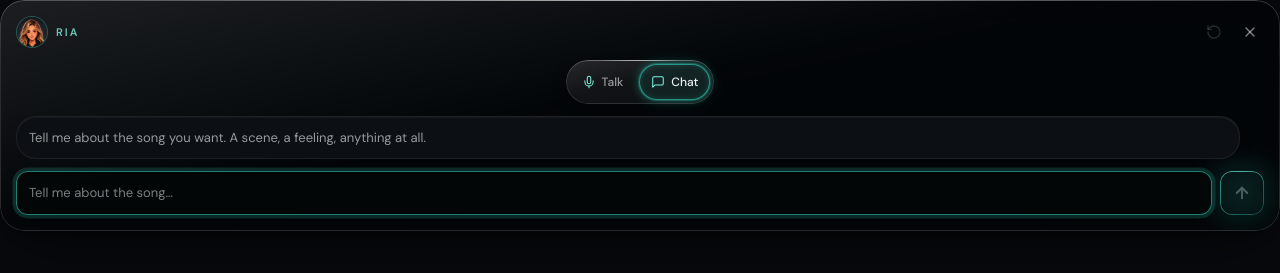
ChatPanel › shows the failed turn inline, not as a page-wide error
The width and height of the screenshot is (1280, 273).
Type "hello" into the text box named "Message the assistant" at point(614, 193), box [16,171,1212,215]
Then press Enter
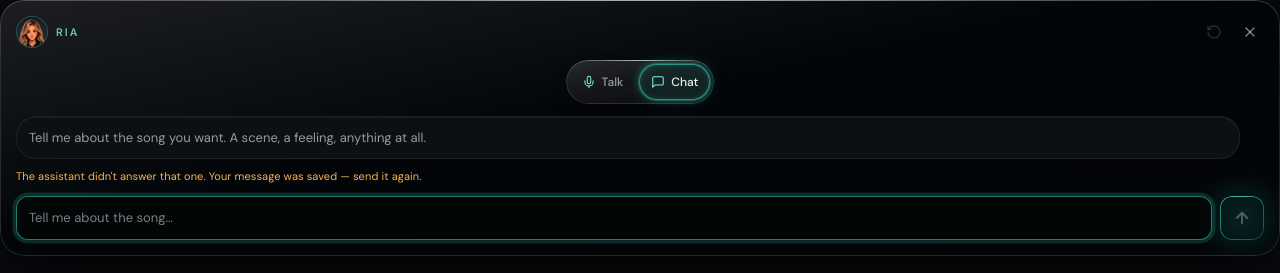
Check: the text box named "Message the assistant" is enabled, box [16,196,1212,240]
Check: the text "The assistant didn't answer that one. Your message was saved — send it again." is shown, box [16,169,422,183]
